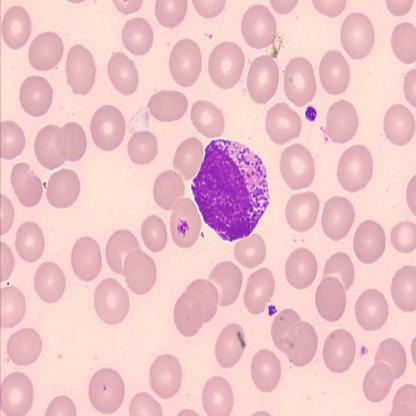Myelocyte: (189, 137, 270, 243)
